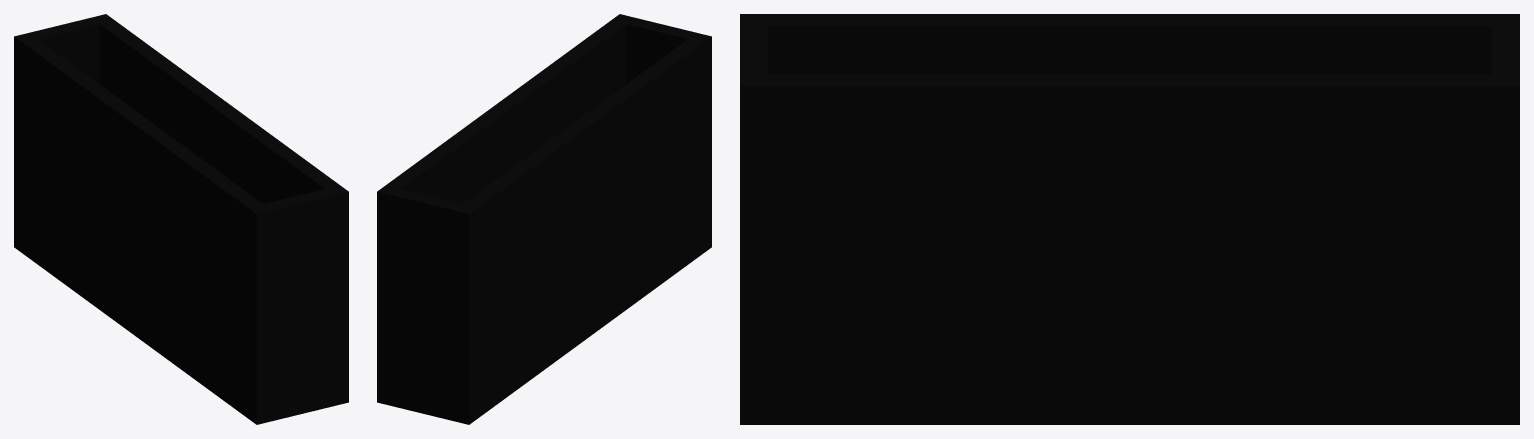
3 views of the same model, side by side, from view 1: azimuth 30°, elevation 25°; view 2: azimuth 150°, elevation 25°; view 3: azimuth 270°, elevation 25° (orthographic). The views are drawn at different scales.
Parts seen in each view (by area): view 1: Box_122x557x267; view 2: Box_122x557x267; view 3: Box_122x557x267.
Part boxes in pixels (bbox=[...]): Box_122x557x267: bbox=[14, 14, 348, 424]; Box_122x557x267: bbox=[377, 14, 711, 424]; Box_122x557x267: bbox=[740, 14, 1519, 424].
Size of the model in its own units: 0.122 by 0.267 by 0.557.
1 material, 1 textured.
